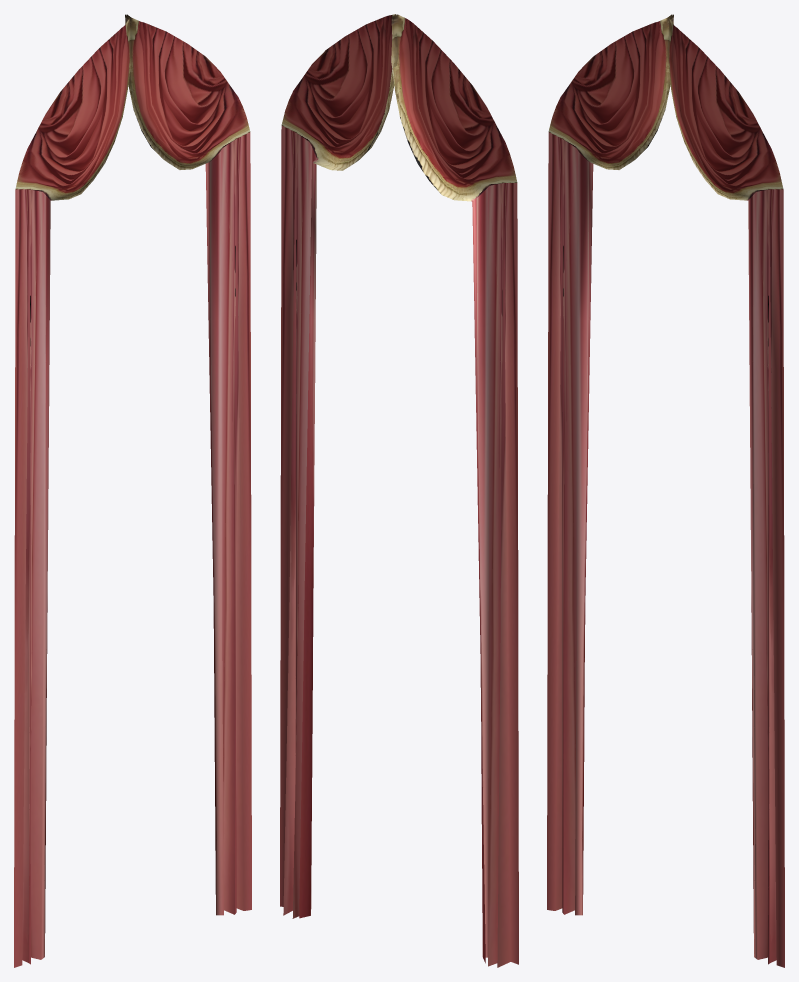
The model's file is parda.fbx.
The picture shows the model from 3 angles, left to right: view 1: azimuth 30°, elevation 25°; view 2: azimuth 150°, elevation 25°; view 3: azimuth 330°, elevation 25°; orthographic projection.
Visible parts, largest first — view 1: Cylinder.001_Cylinder.014_curtain.001_0; view 2: Cylinder.001_Cylinder.014_curtain.001_0; view 3: Cylinder.001_Cylinder.014_curtain.001_0.
Part boxes in pixels (<box>): Cylinder.001_Cylinder.014_curtain.001_0: <box>14,14,251,967</box>; Cylinder.001_Cylinder.014_curtain.001_0: <box>280,14,518,967</box>; Cylinder.001_Cylinder.014_curtain.001_0: <box>547,14,784,967</box>.
Size of the model in its own units: 133 by 493 by 8.92.
